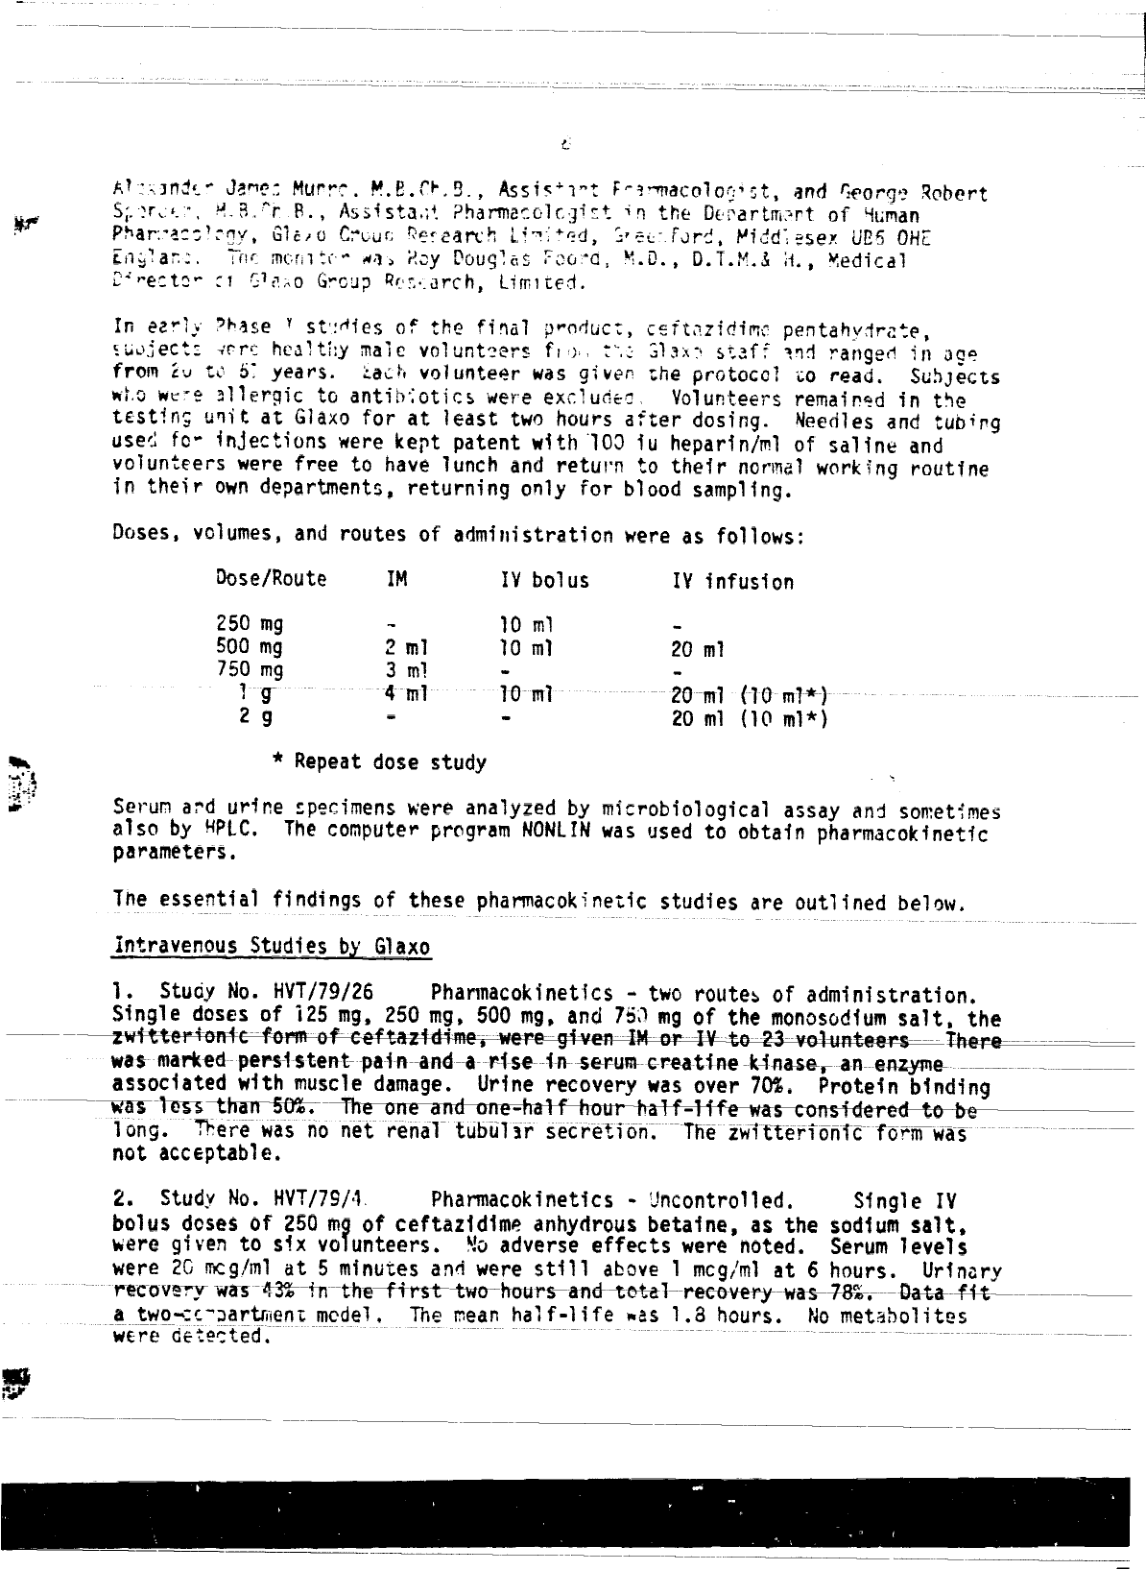nolines: (210, 566, 831, 734)
